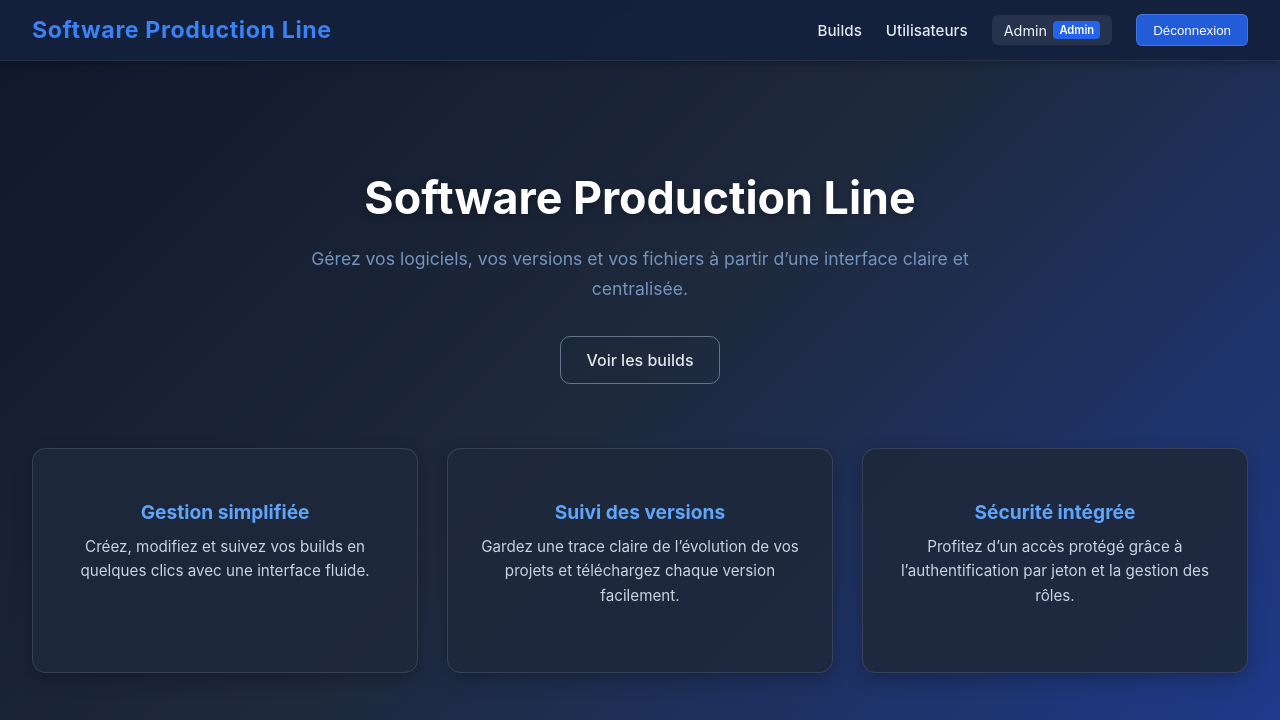
Admin user management › shows an error message when the API fails
Click the link "Utilisateurs" at (927, 31), box [886, 21, 968, 40]
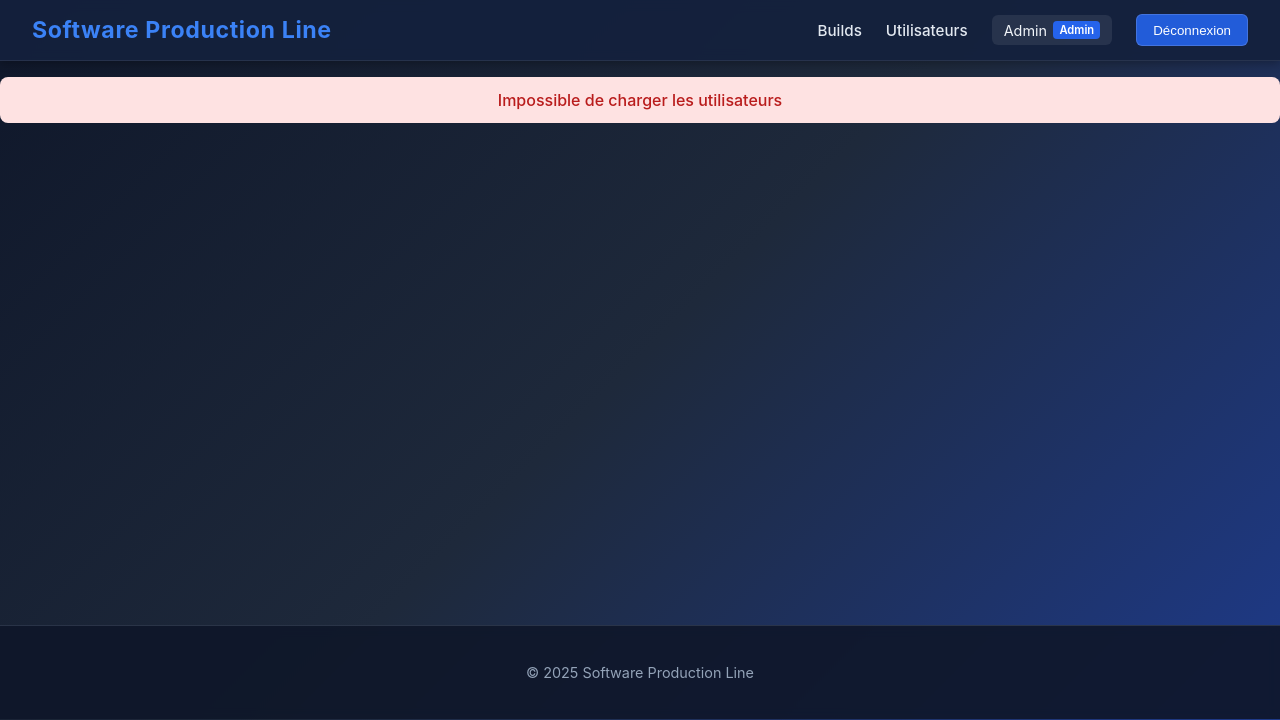
Now the text "Impossible de charger les utilisateurs" is shown, box [0, 77, 1279, 123]
